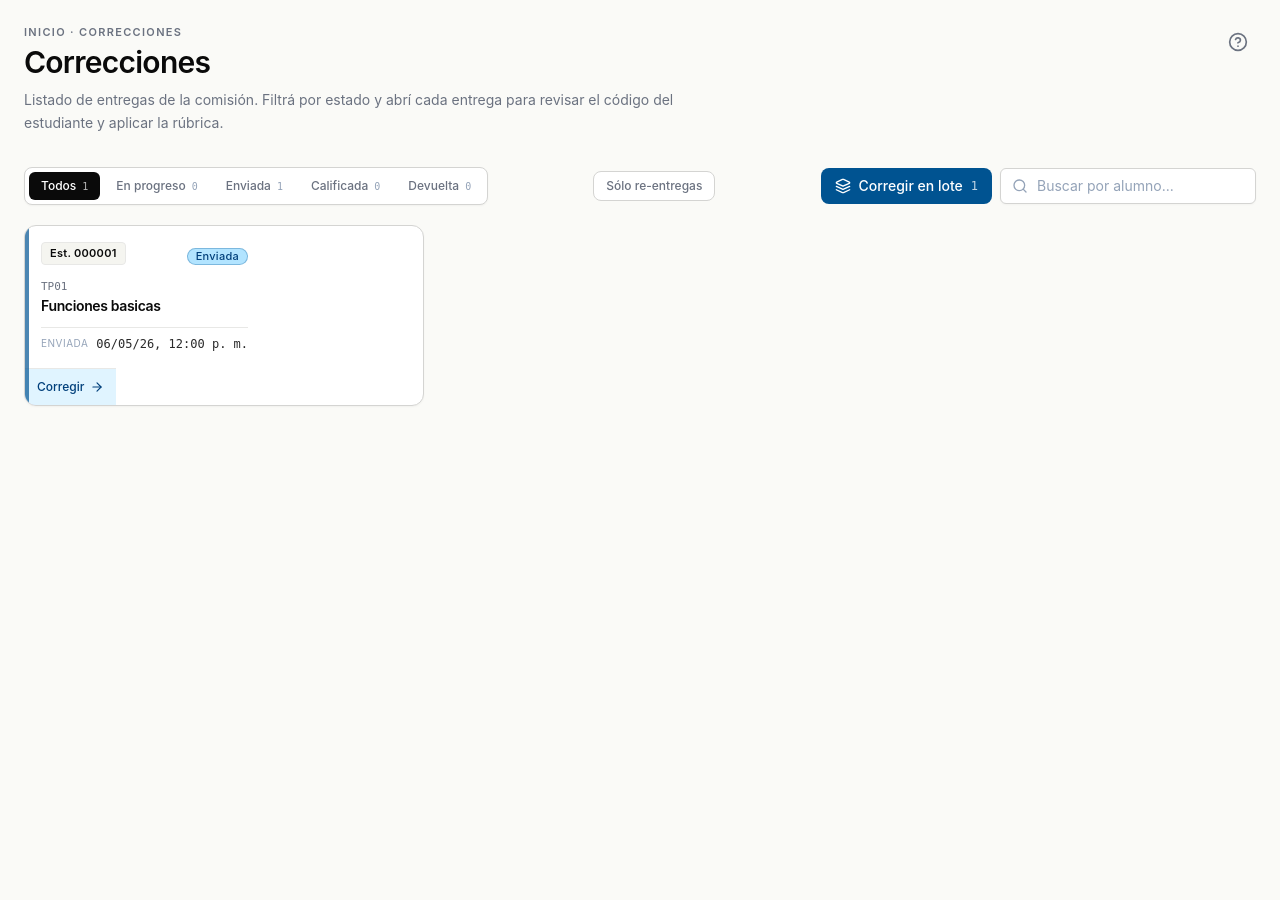
Test: CorreccionesView — GradingFormView › muestra los ejercicios completados en la entrega
Click the button with test id "entrega-drill-btn" at (83, 254), box [24,224,424,406]
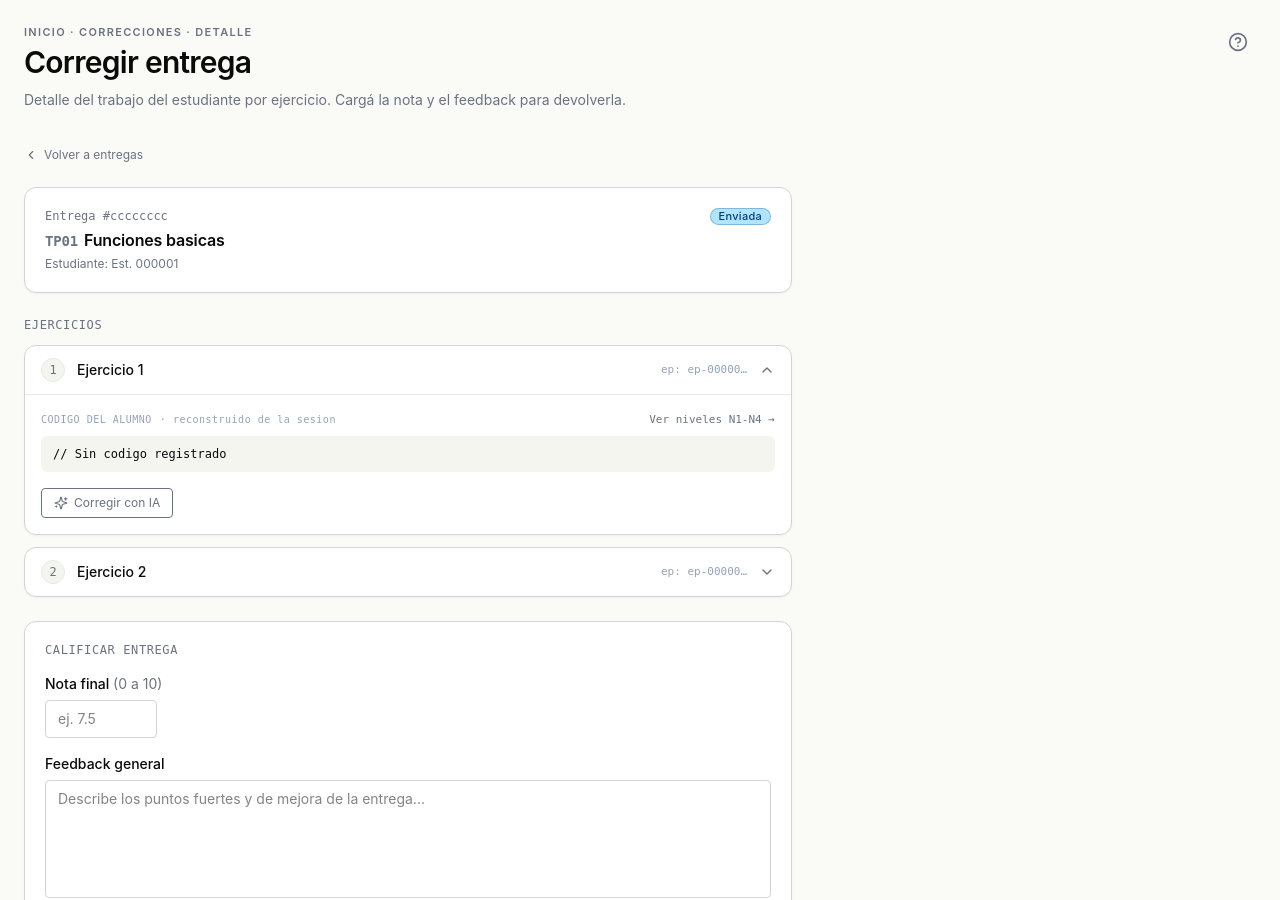
Check: the element with test id "ejercicios-estados-list" is shown, box [24,345,792,597]
Check: the element with test id "ej-estado-1" is shown, box [24,345,792,535]
Check: the element with test id "ej-estado-2" is shown, box [24,547,792,597]
